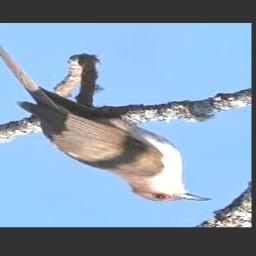Cuckoo: (0, 37, 212, 202)
